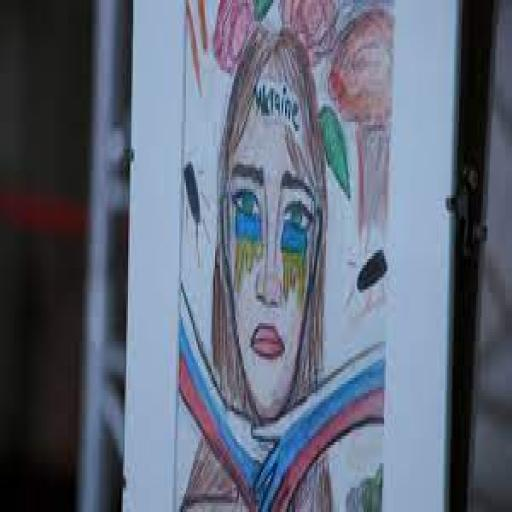person: (171, 27, 351, 509)
